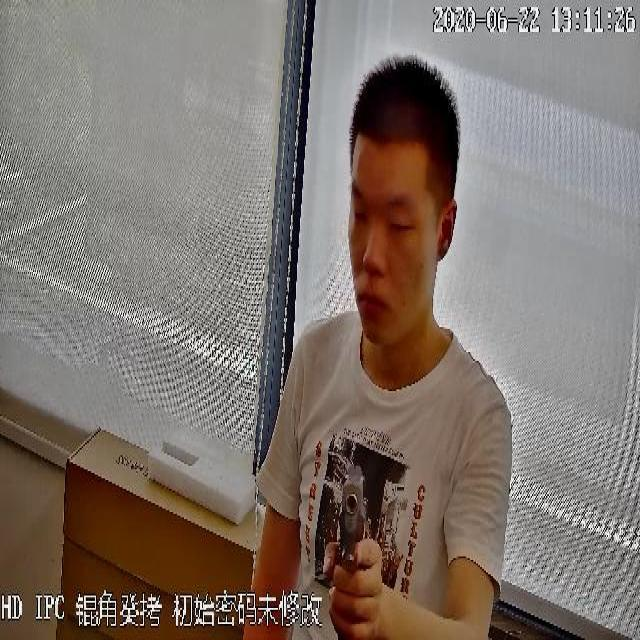pistol: (338, 459, 368, 566)
